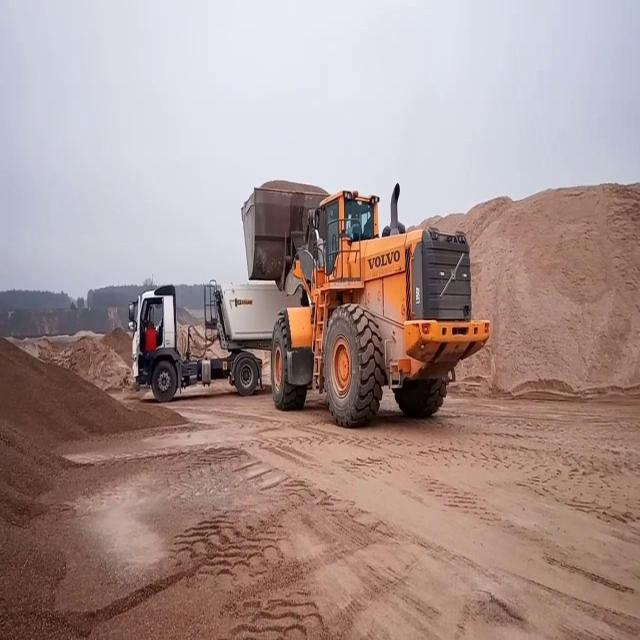Dump Truck: (125, 280, 304, 401)
Loader: (239, 178, 491, 428)
